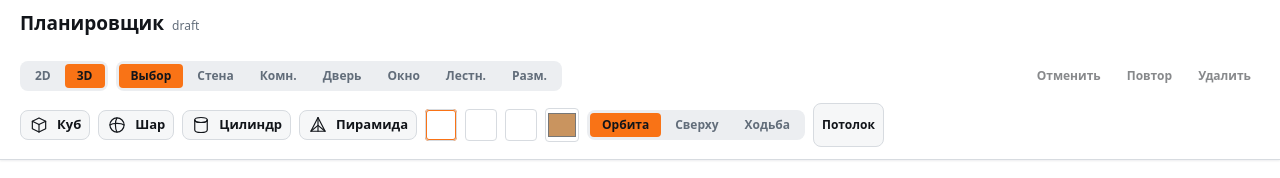
Test: EditorToolbar › disables the delete button until a shape is selected
The image size is (1280, 178).
expect the button "Удалить" is disabled: met, box [1189,63,1260,89]
What coordinates should you click on to do the following:
click the button "Куб"
I would click on:
 (55, 125)
Its box is [20,110,90,140].
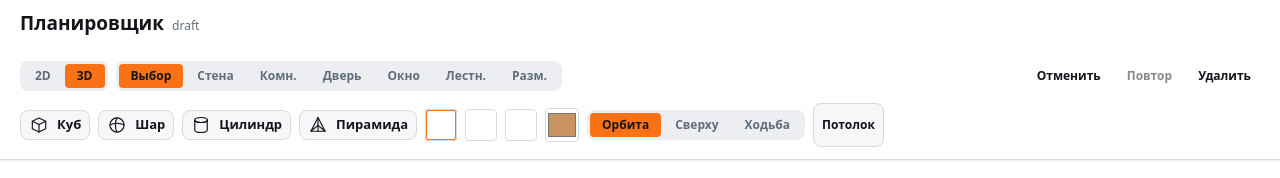
expect the button "Удалить" is enabled: met, box [1189,63,1260,89]
